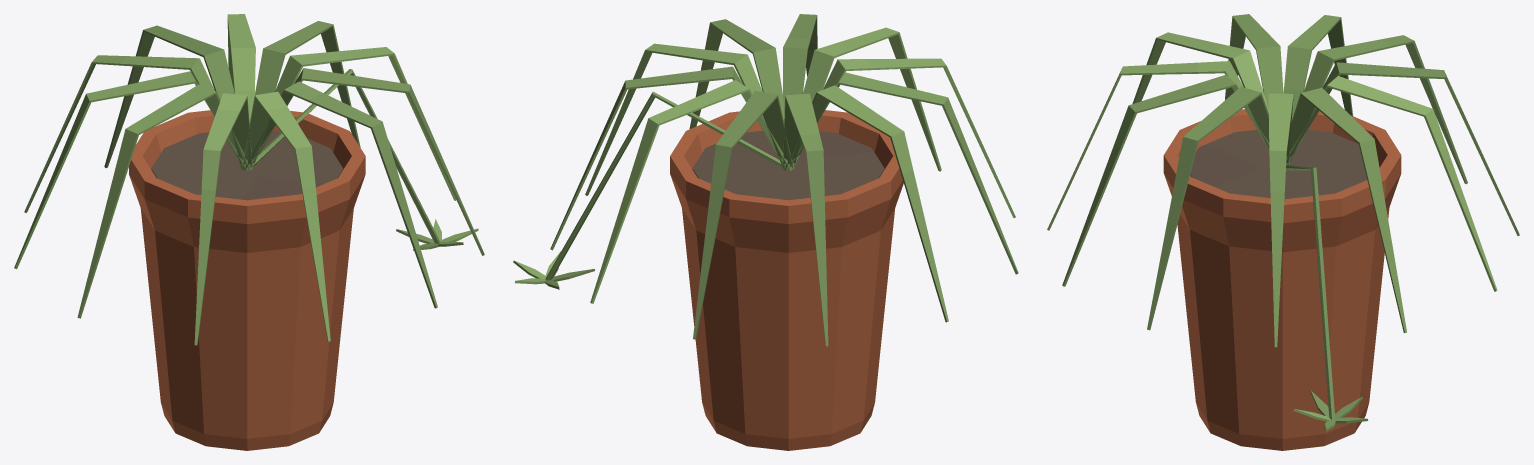
Rendered from spider.glb.
3 renders of one model, left to right at view 1: azimuth 30°, elevation 25°; view 2: azimuth 150°, elevation 25°; view 3: azimuth 270°, elevation 25°, orthographic.
Visible parts, largest first — view 1: spider/review-terra-vessel, spider/review-rooted-soil, spider/arching-leaf-007, spider/arching-leaf-006, spider/arching-leaf-005, spider/arching-leaf-008, spider/arching-leaf-002, spider/arching-leaf-011, spider/arching-leaf-004, spider/arching-leaf-009, spider/arching-leaf-003, spider/arching-leaf-010 (+2 smaller); view 2: spider/review-terra-vessel, spider/review-rooted-soil, spider/arching-leaf-002, spider/arching-leaf-003, spider/arching-leaf-004, spider/arching-leaf-001, spider/arching-leaf-007, spider/arching-leaf-005, spider/arching-leaf-009, spider/arching-leaf-010, spider/arching-leaf-011, spider/arching-leaf-008 (+2 smaller); view 3: spider/review-terra-vessel, spider/review-rooted-soil, spider/arching-leaf-011, spider/arching-leaf-009, spider/arching-leaf-010, spider/arching-leaf-001, spider/arching-leaf-008, spider/arching-leaf-003, spider/arching-leaf-004, spider/arching-leaf-005, spider/arching-leaf-006, spider/arching-leaf-002 (+2 smaller).
Boxes of the visible parts, left/top/right/bottom form: spider/review-terra-vessel: left=129, top=110, right=365, bottom=450; spider/review-rooted-soil: left=151, top=131, right=343, bottom=200; spider/arching-leaf-007: left=242, top=91, right=330, bottom=341; spider/arching-leaf-006: left=194, top=93, right=252, bottom=345; spider/arching-leaf-005: left=77, top=84, right=251, bottom=318; spider/arching-leaf-008: left=243, top=81, right=437, bottom=308; spider/arching-leaf-002: left=104, top=25, right=242, bottom=169; spider/arching-leaf-011: left=252, top=21, right=360, bottom=169; spider/arching-leaf-004: left=14, top=71, right=248, bottom=269; spider/arching-leaf-009: left=246, top=68, right=484, bottom=255; spider/arching-leaf-003: left=24, top=55, right=245, bottom=212; spider/arching-leaf-010: left=249, top=47, right=456, bottom=200; spider/review-terra-vessel: left=670, top=110, right=903, bottom=450; spider/review-rooted-soil: left=692, top=130, right=884, bottom=200; spider/arching-leaf-002: left=693, top=91, right=793, bottom=339; spider/arching-leaf-003: left=783, top=93, right=828, bottom=346; spider/arching-leaf-004: left=785, top=85, right=948, bottom=322; spider/arching-leaf-001: left=590, top=80, right=792, bottom=303; spider/arching-leaf-007: left=792, top=27, right=941, bottom=171; spider/arching-leaf-005: left=786, top=72, right=1018, bottom=274; spider/arching-leaf-009: left=689, top=19, right=784, bottom=168; spider/arching-leaf-010: left=585, top=43, right=786, bottom=195; spider/arching-leaf-011: left=550, top=66, right=789, bottom=250; spider/arching-leaf-008: left=783, top=14, right=817, bottom=113; spider/review-terra-vessel: left=1163, top=109, right=1401, bottom=450; spider/review-rooted-soil: left=1190, top=129, right=1367, bottom=199; spider/arching-leaf-011: left=1287, top=87, right=1406, bottom=332; spider/arching-leaf-009: left=1147, top=87, right=1269, bottom=330; spider/arching-leaf-010: left=1268, top=93, right=1293, bottom=347; spider/arching-leaf-001: left=1286, top=76, right=1497, bottom=291; spider/arching-leaf-008: left=1062, top=74, right=1269, bottom=286; spider/arching-leaf-003: left=1288, top=35, right=1467, bottom=184; spider/arching-leaf-004: left=1283, top=15, right=1352, bottom=120; spider/arching-leaf-005: left=1225, top=14, right=1283, bottom=110; spider/arching-leaf-006: left=1132, top=32, right=1268, bottom=112; spider/arching-leaf-002: left=1286, top=62, right=1519, bottom=235.
Bounding box in the file's own units: 0.4195 × 0.3049 × 0.3781.
3 materials, 3 textured.
